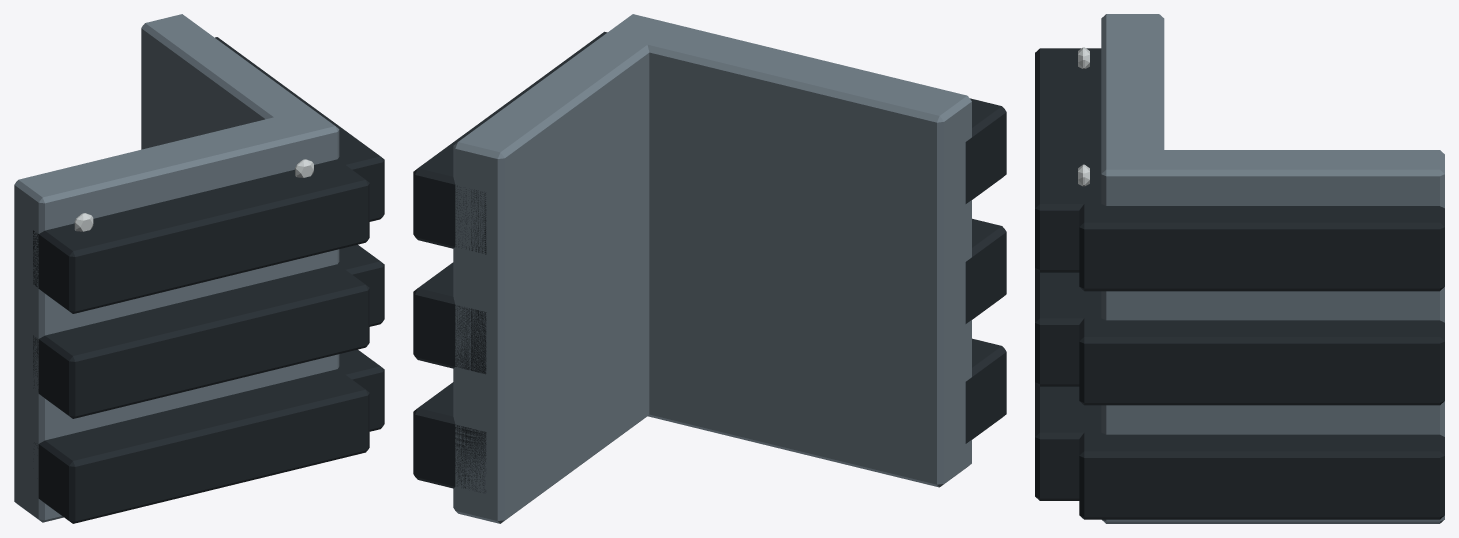
The model's file is b20_dock_corner_rubber_fender.glb.
3 views of the same model, side by side, from view 1: azimuth 30°, elevation 25°; view 2: azimuth 150°, elevation 25°; view 3: azimuth 270°, elevation 25° (orthographic). The views are drawn at different scales.
Parts seen in each view (by area): view 1: b20_dock_corner_rubber_fender; view 2: b20_dock_corner_rubber_fender; view 3: b20_dock_corner_rubber_fender.
Part boxes in pixels (box(x1,y1,x2,y2)): b20_dock_corner_rubber_fender: box(14, 14, 384, 523); b20_dock_corner_rubber_fender: box(413, 14, 1006, 523); b20_dock_corner_rubber_fender: box(1035, 14, 1444, 523).
Size of the model in its own units: 0.67 by 0.62 by 0.65.
